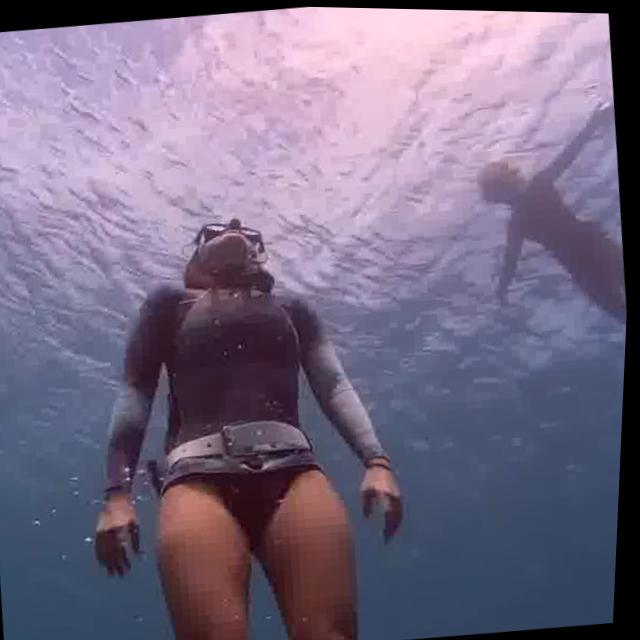human: (50, 175, 442, 640), (438, 75, 638, 427)
